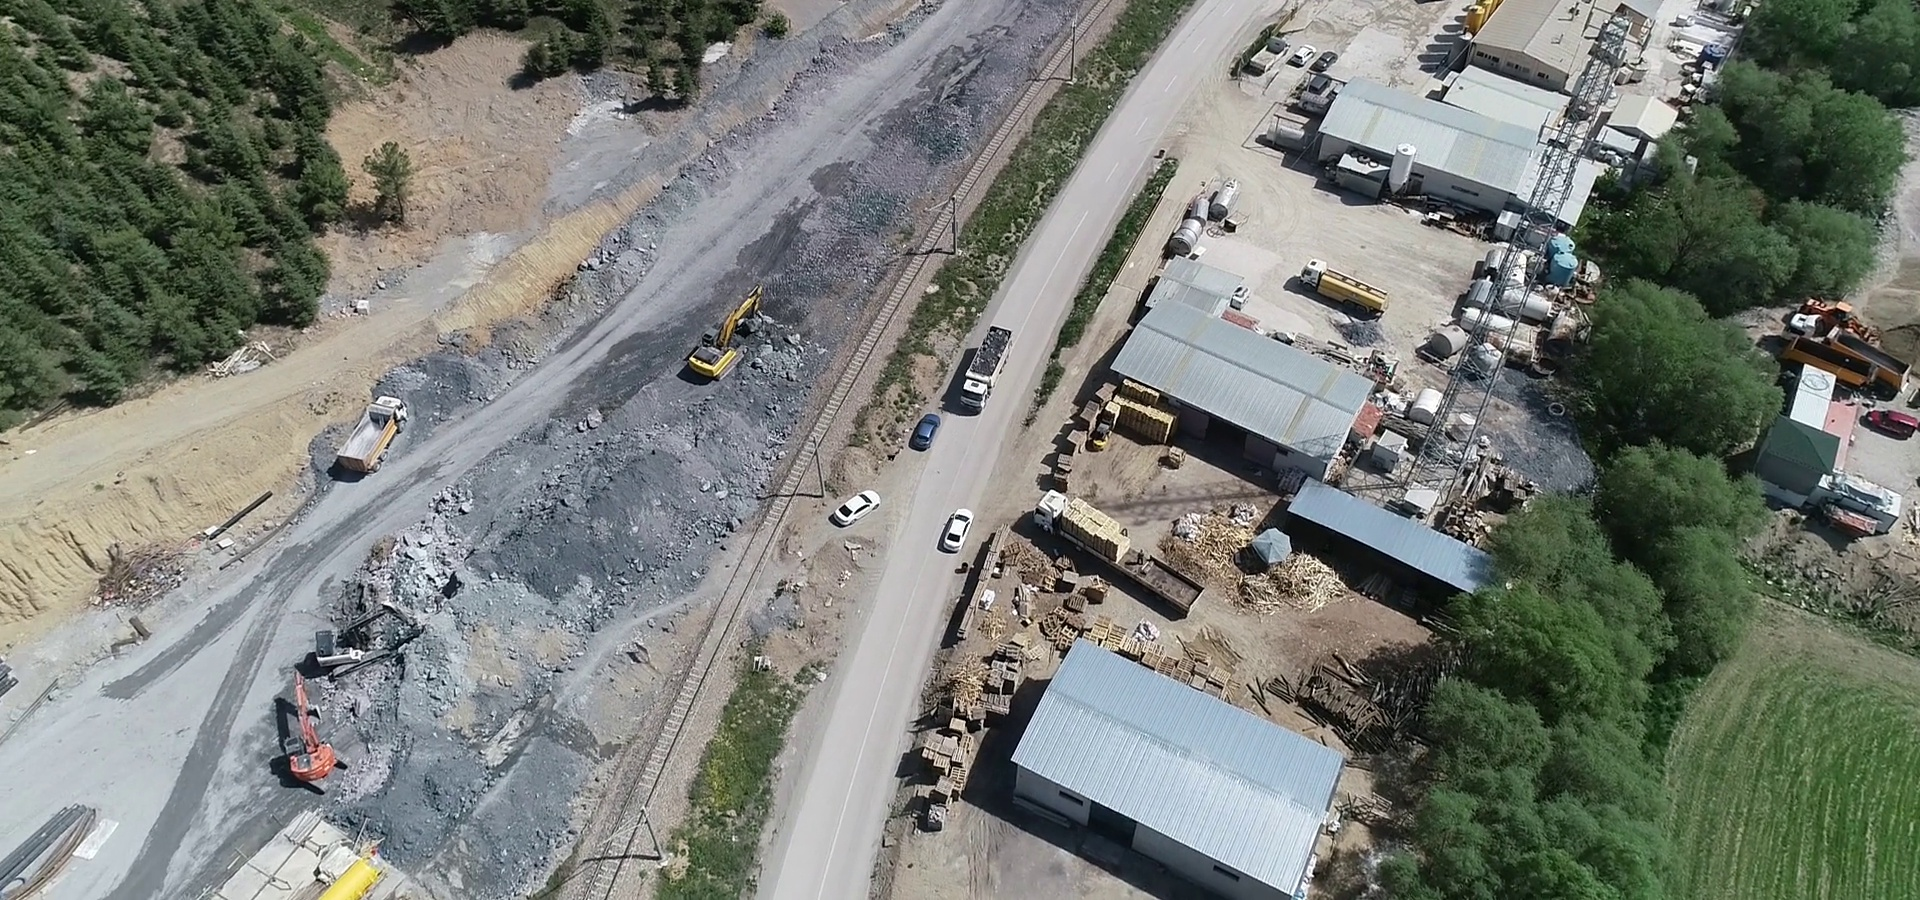araba: (825, 490, 880, 538), (936, 498, 973, 561), (1869, 400, 1920, 436), (902, 407, 938, 454), (1313, 42, 1346, 72), (1284, 42, 1321, 65)
ismakinasi: (680, 283, 789, 381), (305, 587, 425, 672), (279, 675, 349, 795)
kamyon: (1029, 491, 1218, 636), (1298, 252, 1401, 326), (332, 383, 408, 482), (956, 321, 1015, 416)
